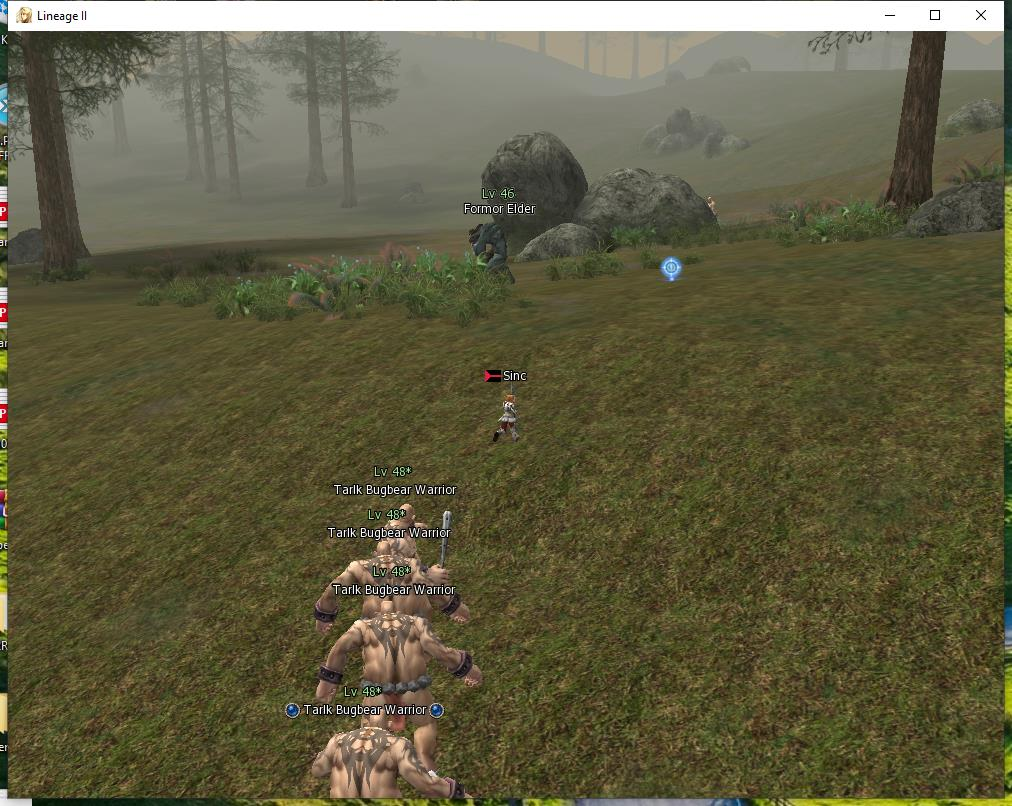monster: (276, 690, 479, 806), (316, 562, 468, 693), (321, 472, 463, 540), (462, 198, 532, 300)
